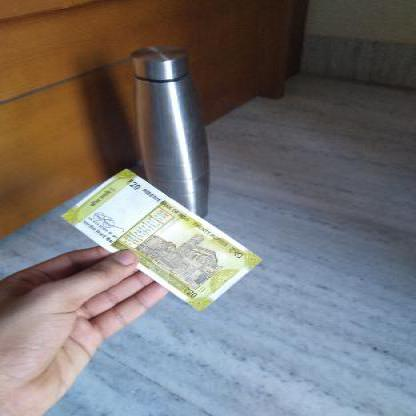New20Back: (62, 167, 263, 307)
